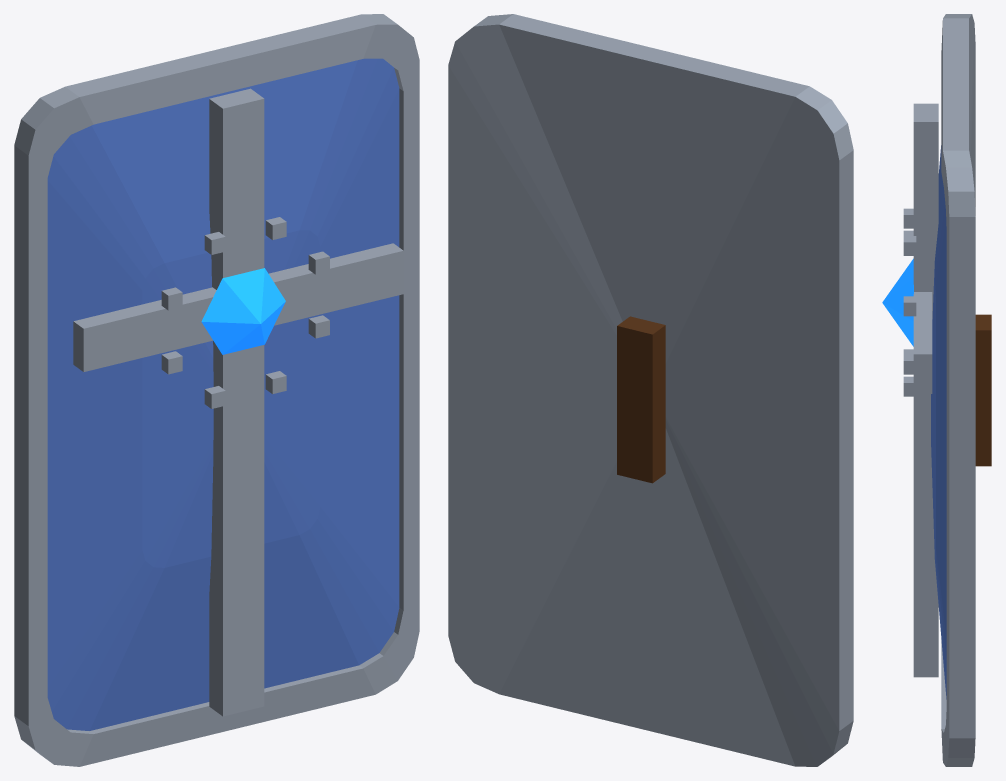
File: shield_tower_rare.glb
3 renders of one model, left to right at view 1: azimuth 30°, elevation 25°; view 2: azimuth 150°, elevation 25°; view 3: azimuth 270°, elevation 25°, orthographic. The views are drawn at different scales.
Parts seen in each view (by area): view 1: shield_tower_rare_export; view 2: shield_tower_rare_export; view 3: shield_tower_rare_export.
Boxes of the visible parts, bbox=[...] form: shield_tower_rare_export: bbox=[14, 14, 419, 766]; shield_tower_rare_export: bbox=[448, 14, 853, 766]; shield_tower_rare_export: bbox=[882, 14, 991, 766].
Size of the model in its own units: 66 by 108 by 17.54.
